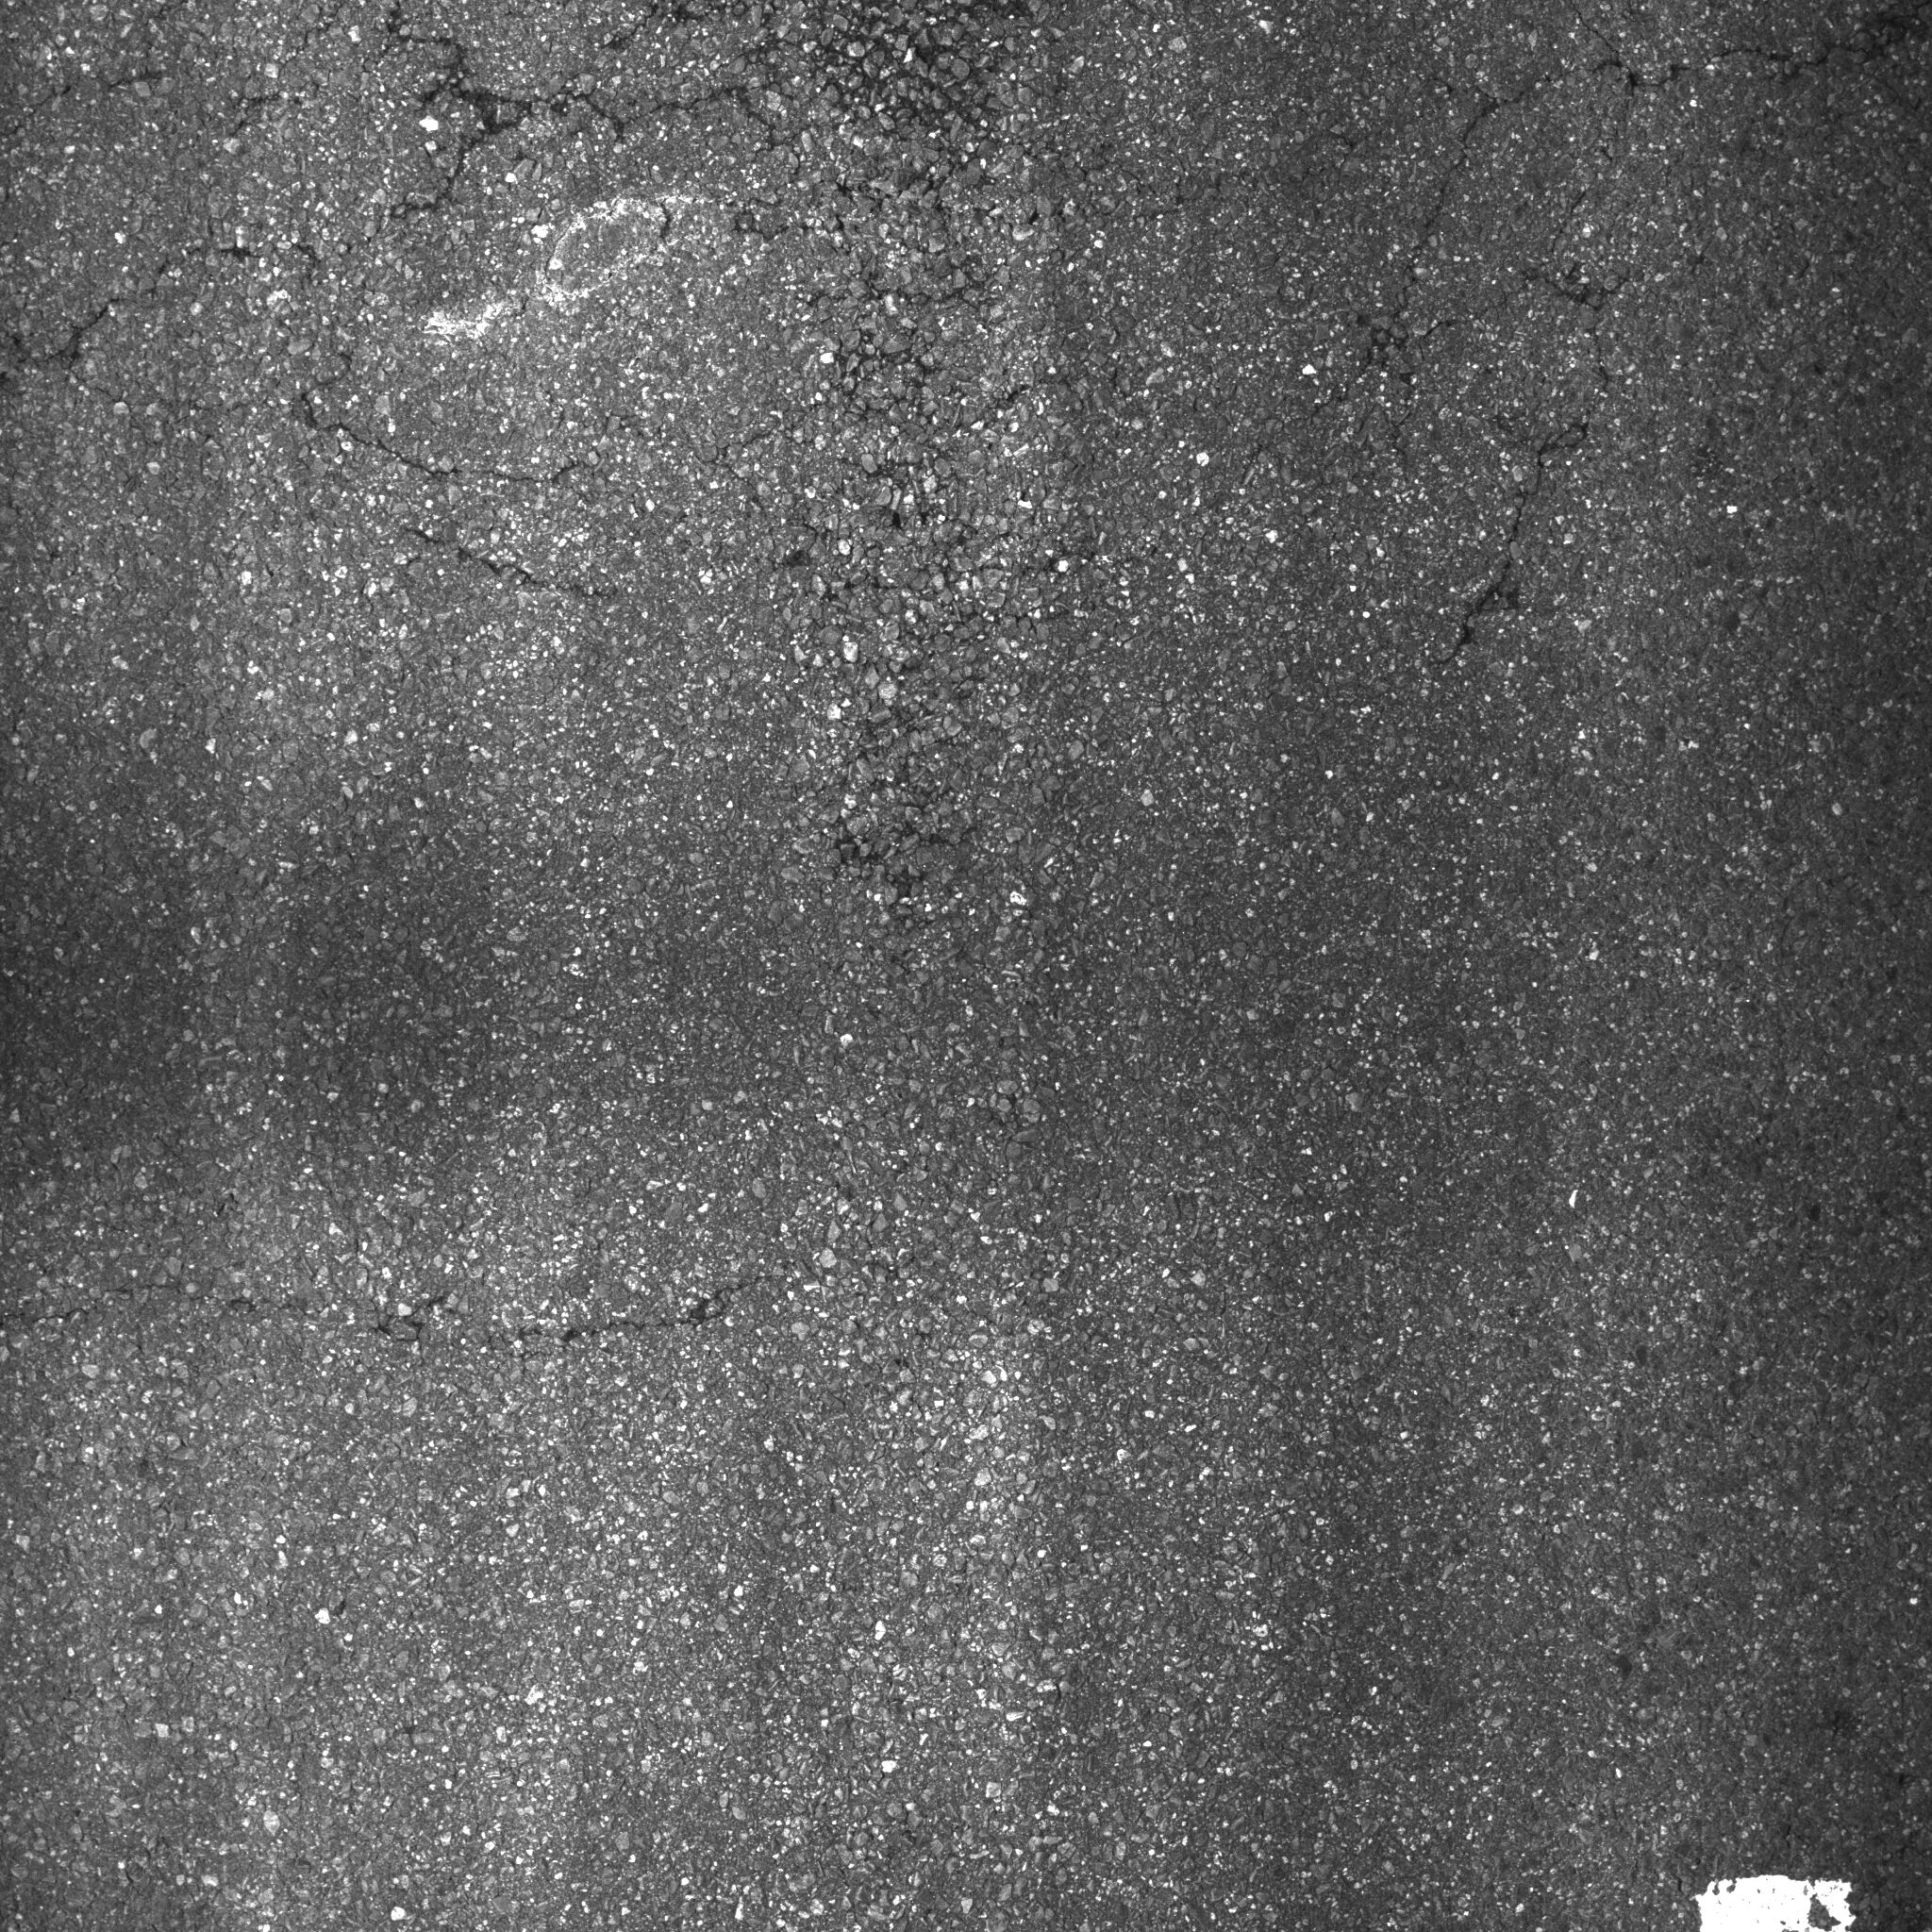transeverse: (2, 4, 913, 584), (1315, 16, 1930, 439), (14, 1260, 876, 1384), (1447, 234, 1651, 672)
